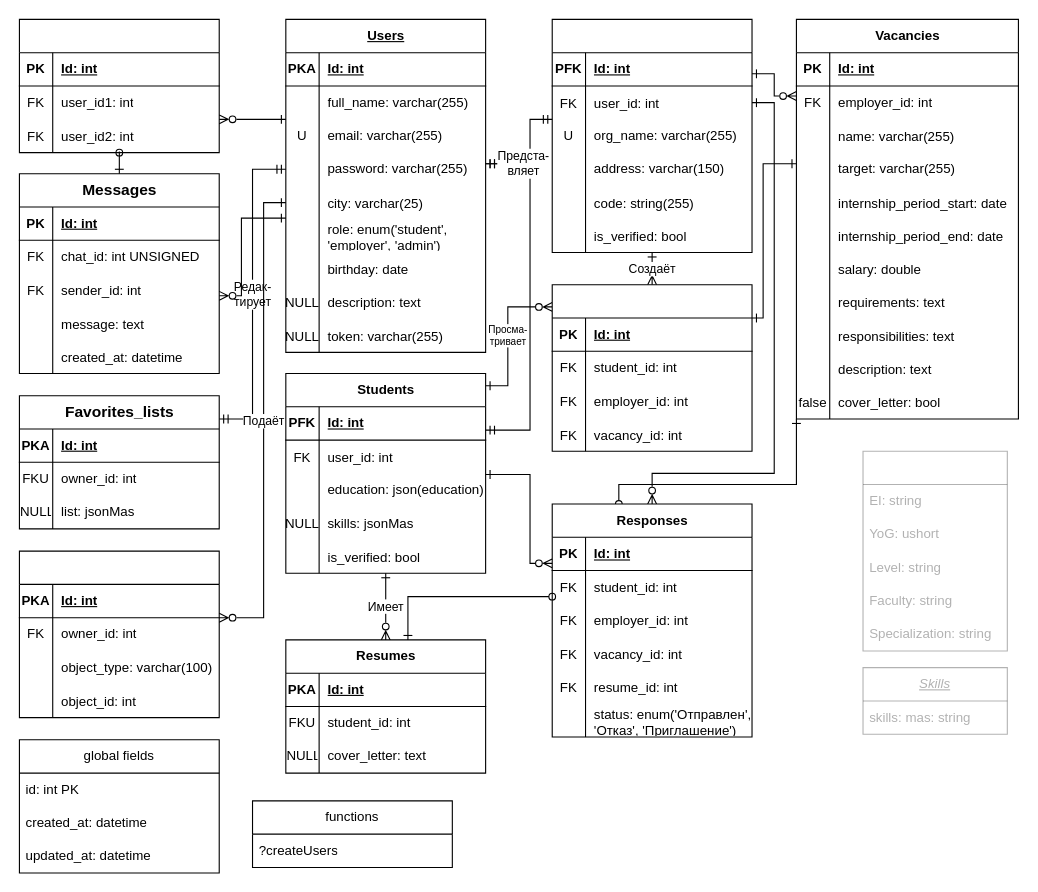
The diagram is 1038 pixels wide and 892 high, and some of its shapes have lost their labels. The box of each missing label's shape, as (x1, y1, x2, y2) in pixels:
Chats: (18, 18, 219, 153)
Claims: (18, 550, 219, 718)
Education: (862, 450, 1007, 651)
Employers: (551, 18, 752, 253)
Invite_lists: (551, 284, 752, 451)
